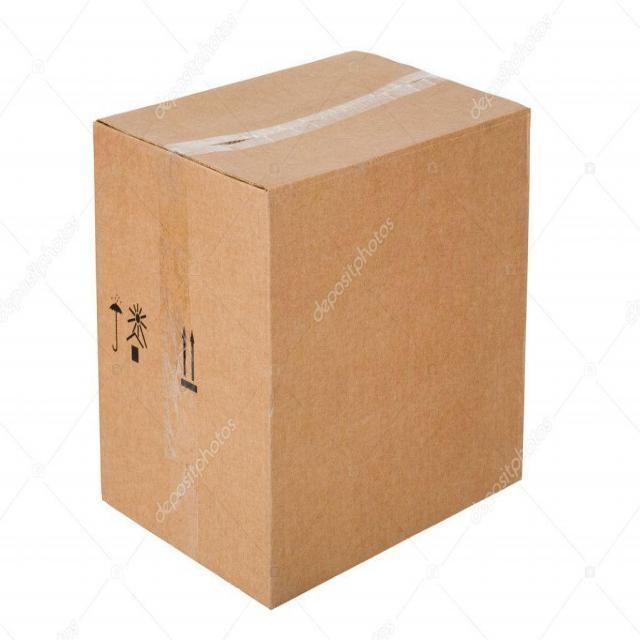box: (81, 43, 555, 607)
